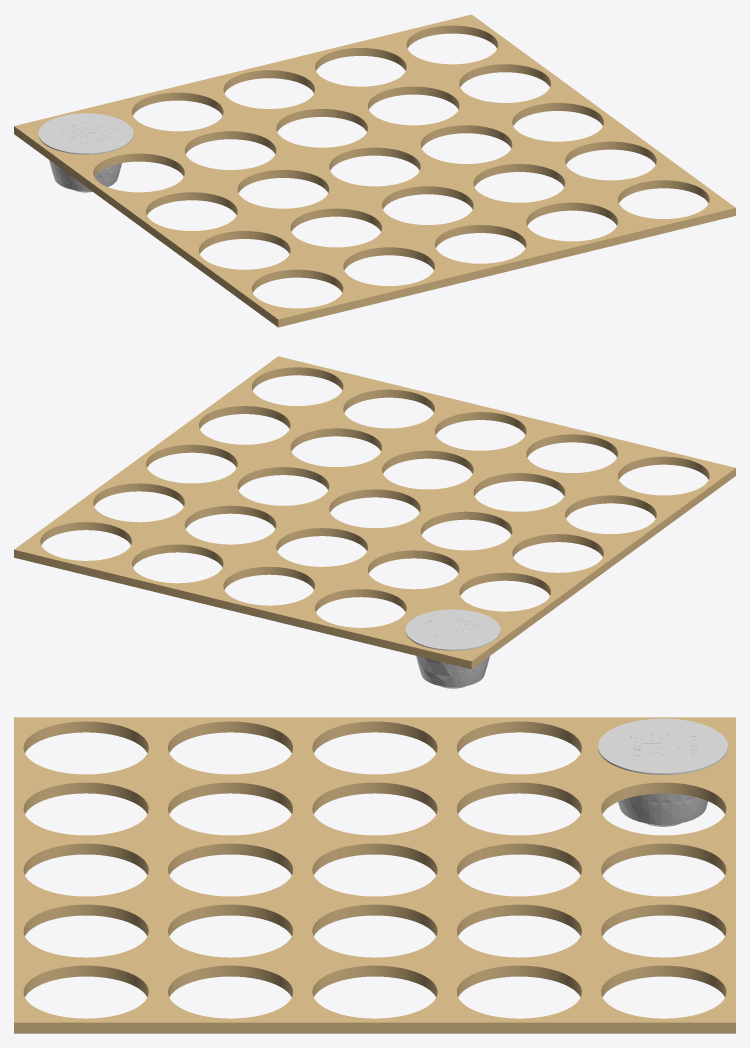
The model's file is capsulero3.glb.
3 views of the same model, one above another, from view 1: azimuth 30°, elevation 25°; view 2: azimuth 150°, elevation 25°; view 3: azimuth 270°, elevation 25° (orthographic). The views are drawn at different scales.
Visible parts, largest first — view 1: capsulero-Extrude, FabConvert.com_dolce gusto pod holder; view 2: capsulero-Extrude, FabConvert.com_dolce gusto pod holder; view 3: capsulero-Extrude, FabConvert.com_dolce gusto pod holder.
Part boxes in pixels (x1=…): capsulero-Extrude: x1=14, y1=14, x2=735, y2=327; FabConvert.com_dolce gusto pod holder: x1=38, y1=113, x2=133, y2=192; capsulero-Extrude: x1=14, y1=356, x2=735, y2=669; FabConvert.com_dolce gusto pod holder: x1=405, y1=609, x2=500, y2=688; capsulero-Extrude: x1=14, y1=717, x2=735, y2=1033; FabConvert.com_dolce gusto pod holder: x1=598, y1=718, x2=727, y2=826.
Size of the model in its own units: 0.3 by 0.0347 by 0.3.
